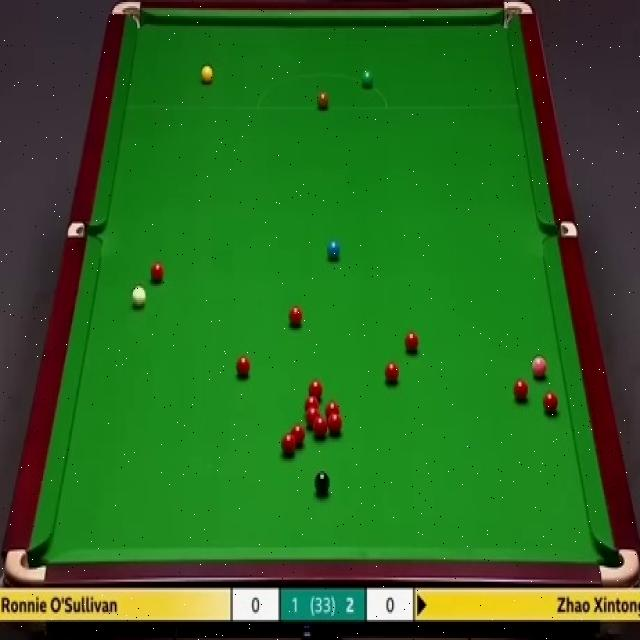black-ball: (314, 471, 331, 493)
blue-ball: (326, 239, 342, 262)
brown-ball: (316, 91, 329, 110)
green-ball: (362, 68, 373, 88)
pink-ball: (530, 356, 548, 379)
red-ball: (542, 390, 558, 414), (148, 263, 166, 284), (288, 304, 303, 328), (282, 432, 297, 456), (403, 330, 419, 352), (328, 411, 342, 436), (291, 423, 305, 448), (514, 377, 528, 402), (308, 379, 323, 400), (236, 354, 250, 376), (384, 361, 398, 383), (314, 416, 327, 438), (306, 407, 319, 428), (303, 396, 319, 413), (325, 400, 341, 416)
white-ball: (132, 285, 146, 309)
yellow-ball: (200, 66, 213, 86)
